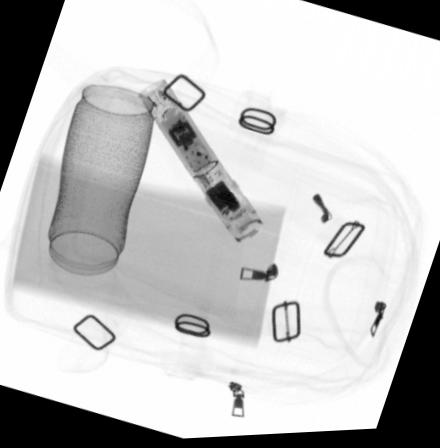Baton: (135, 78, 264, 248)
